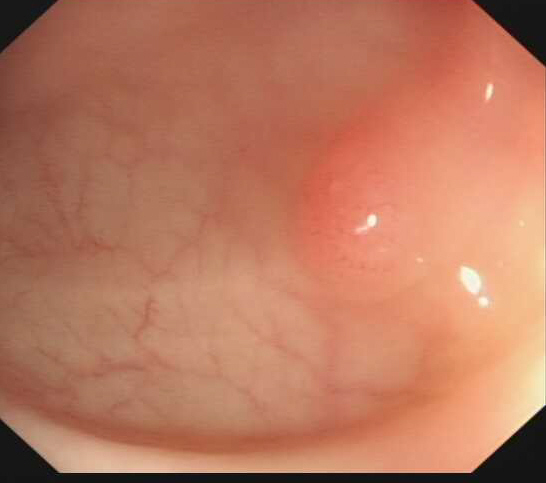adenoma: (285, 93, 472, 303)
